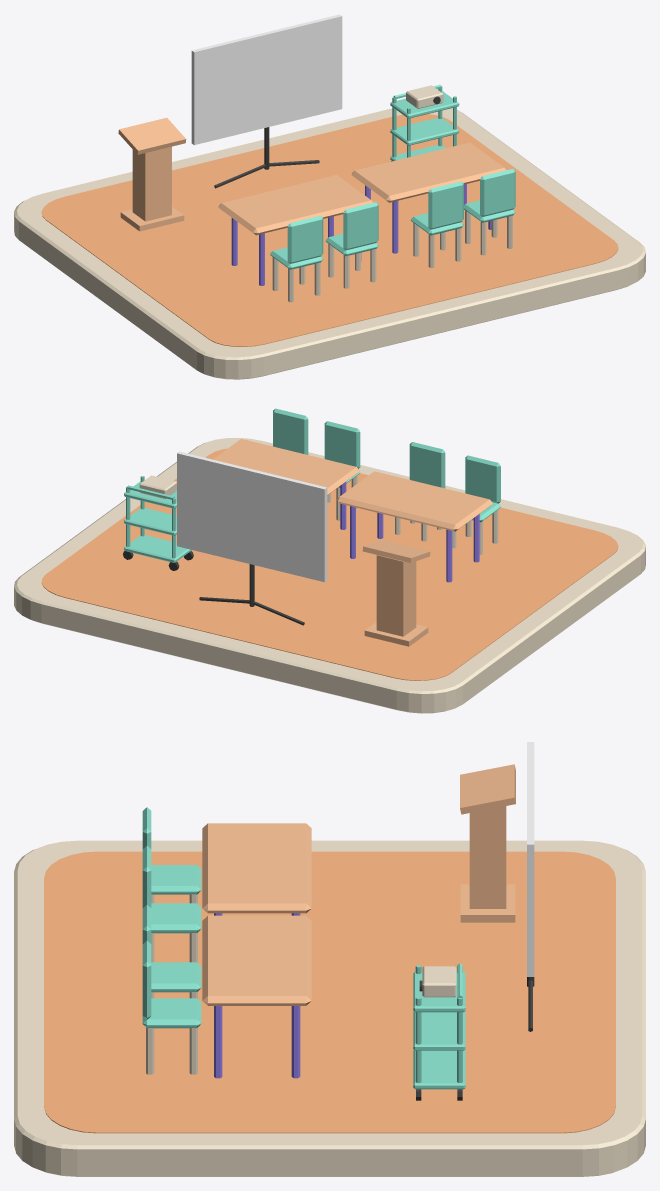
3 views of the same model, one above another, from view 1: azimuth 30°, elevation 25°; view 2: azimuth 150°, elevation 25°; view 3: azimuth 270°, elevation 25° (orthographic). The views are drawn at different scales.
Parts seen in each view (by area): view 1: COM-02 Floor Surface, COM-01 Rounded Base Direct, Screen, Rounded table top.001, Rounded table top, Body, Reading top, Backrest, Backrest.003, Backrest.001, Backrest.002, Tray.001 (+3 smaller); view 2: COM-02 Floor Surface, COM-01 Rounded Base Direct, Screen, Rounded table top, Rounded table top.001, Body, Backrest.002, Backrest.001, Backrest, Backrest.003, Tray, Reading top (+4 smaller); view 3: COM-02 Floor Surface, COM-01 Rounded Base Direct, Rounded table top, Rounded table top.001, Body, Reading top, Screen, Tray, Tray.001, Seat.003, Seat.002, Seat.001 (+7 smaller).
Boxes of the visible parts, x1,y1,x2,y2 form: COM-02 Floor Surface: (41,114,618,346); COM-01 Rounded Base Direct: (14,108,645,379); Screen: (191,14,342,145); Rounded table top.001: (351,142,506,202); Rounded table top: (218,175,373,235); Body: (132,146,171,221); Reading top: (118,117,186,154); Backrest: (287,215,323,263); Backrest.003: (480,169,515,216); Backrest.001: (343,202,378,250); Backrest.002: (428,181,463,229); Tray.001: (390,118,459,145); COM-02 Floor Surface: (41,448,618,680); COM-01 Rounded Base Direct: (14,437,645,713); Screen: (177,451,327,582); Rounded table top: (336,471,492,531); Rounded table top.001: (213,439,359,494); Body: (376,555,416,636); Backrest.002: (324,421,360,468); Backrest.001: (409,442,445,488); Backrest: (465,455,500,503); Backrest.003: (273,408,308,454); Tray: (124,535,191,562); Reading top: (362,540,430,562); COM-02 Floor Surface: (44,851,615,1133); COM-01 Rounded Base Direct: (14,840,645,1176); Rounded table top: (202,823,311,913); Rounded table top.001: (202,915,311,1005); Body: (469,806,506,908); Reading top: (460,764,515,814); Screen: (527,742,534,976); Tray: (413,1050,465,1089); Tray.001: (413,1011,465,1050); Seat.003: (142,998,201,1028); Seat.002: (151,962,201,992); Seat.001: (151,903,201,933).
Bounding box in the file's own units: 6 × 2.15 × 5.2.
1 material, 1 textured.
